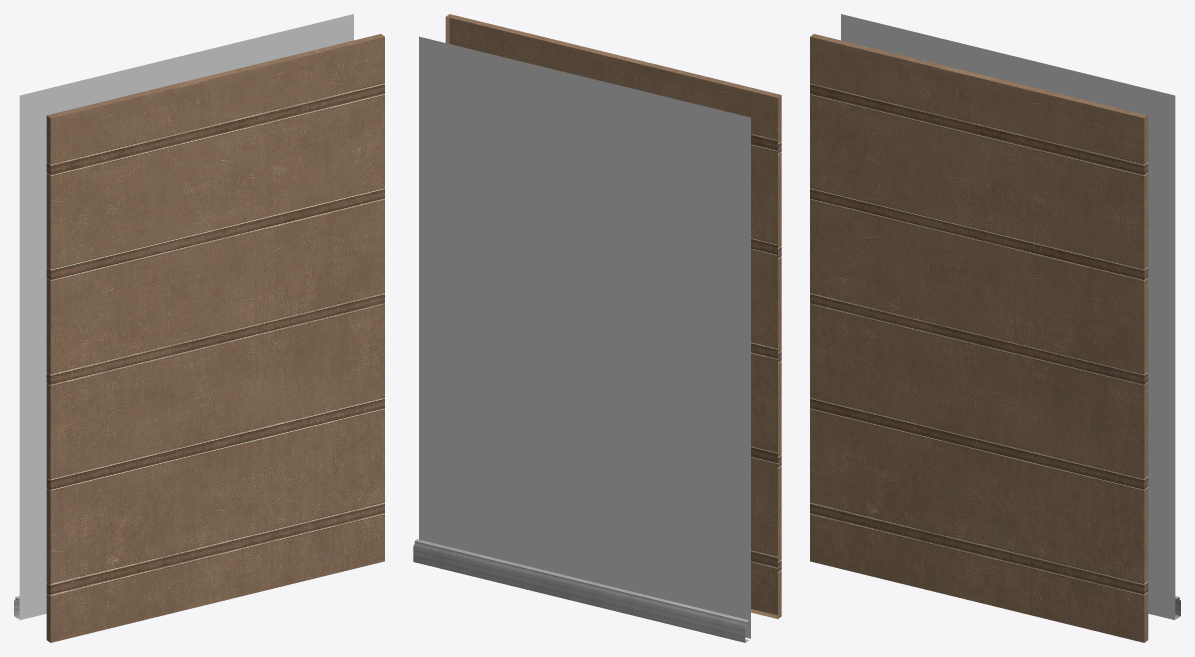
The model's file is House_01_Wall_03.fbx.
The picture shows the model from 3 angles, left to right: view 1: azimuth 30°, elevation 25°; view 2: azimuth 150°, elevation 25°; view 3: azimuth 330°, elevation 25°; orthographic projection.
Visible parts, largest first — view 1: House_01_Wall_03; view 2: House_01_Wall_03; view 3: House_01_Wall_03.
Boxes of the visible parts, x1=… form: House_01_Wall_03: x1=14, y1=14, x2=384, y2=642; House_01_Wall_03: x1=413, y1=14, x2=781, y2=642; House_01_Wall_03: x1=810, y1=14, x2=1180, y2=642.
Bounding box in the file's own units: 200 × 300 × 37.93.
